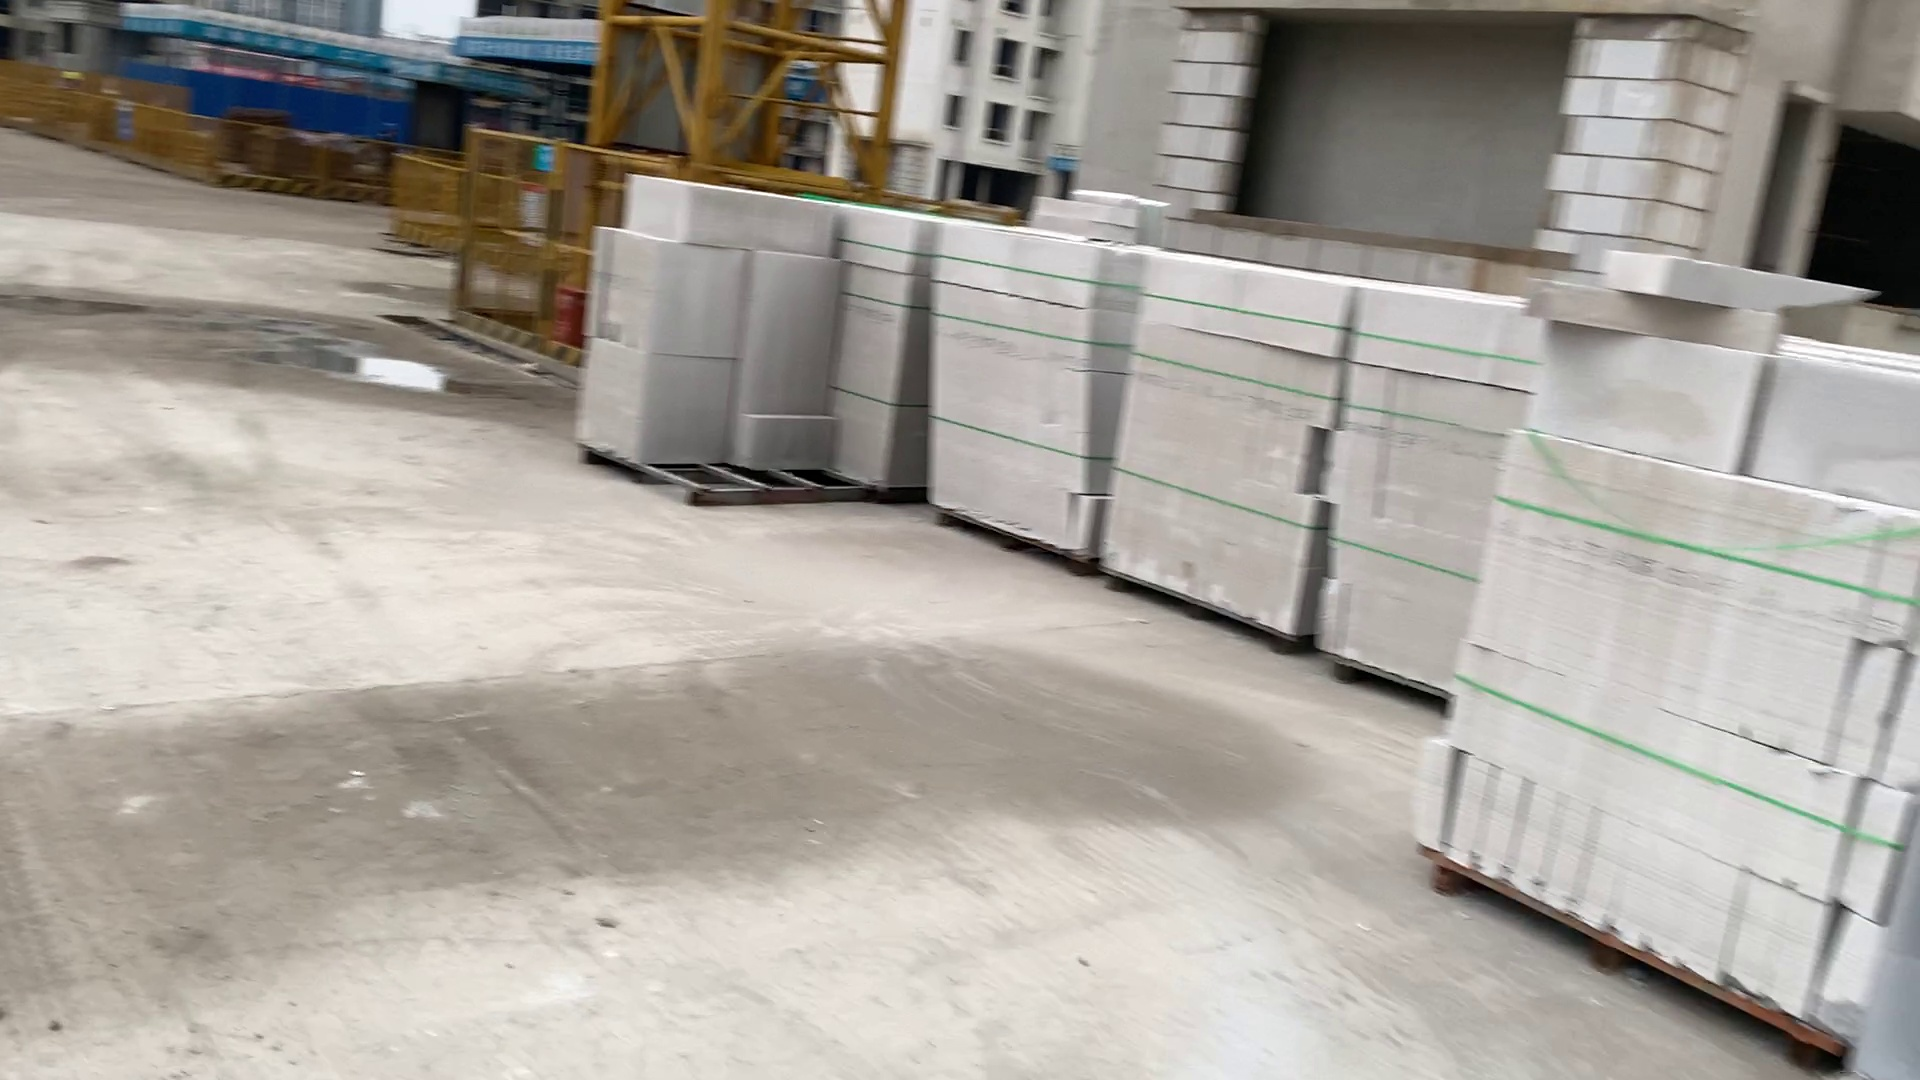brickwork: (1480, 415, 1920, 1073), (1095, 241, 1346, 626), (1320, 284, 1539, 692), (574, 179, 847, 483), (924, 225, 1100, 560), (827, 210, 922, 488)
